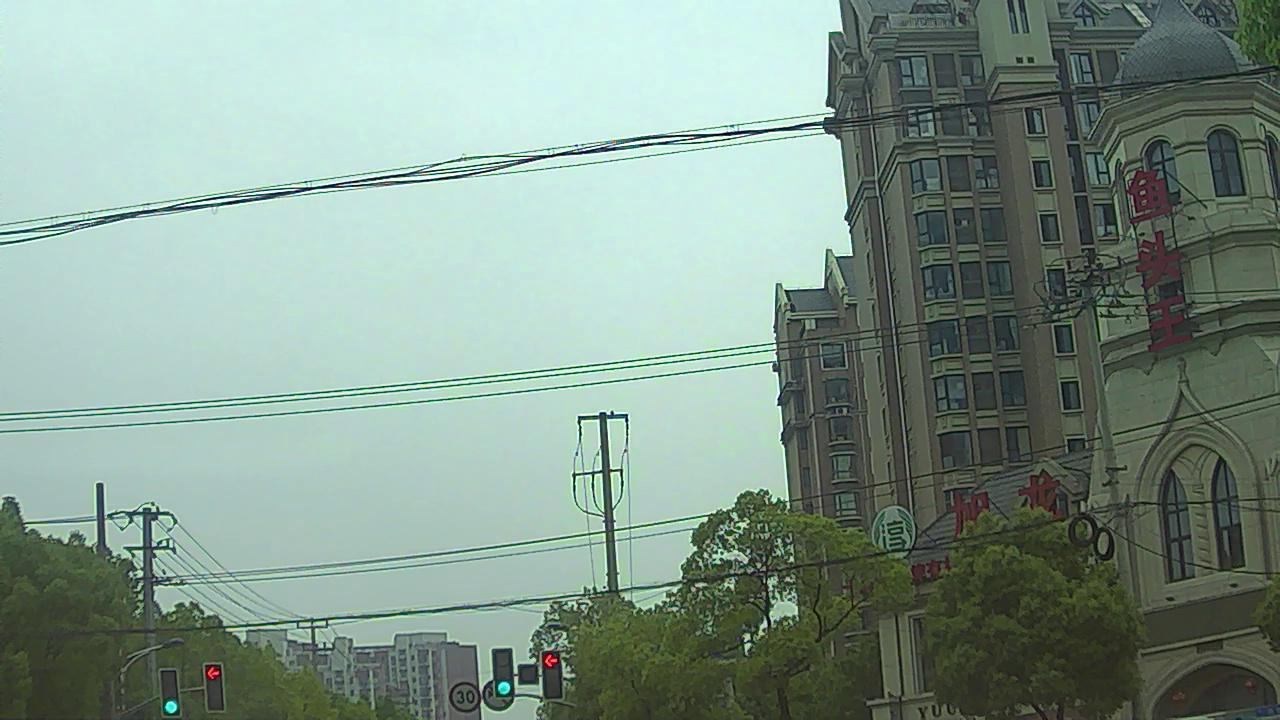traffic_light: (490, 648, 518, 699), (542, 650, 564, 700), (204, 664, 224, 712), (162, 667, 180, 716)
